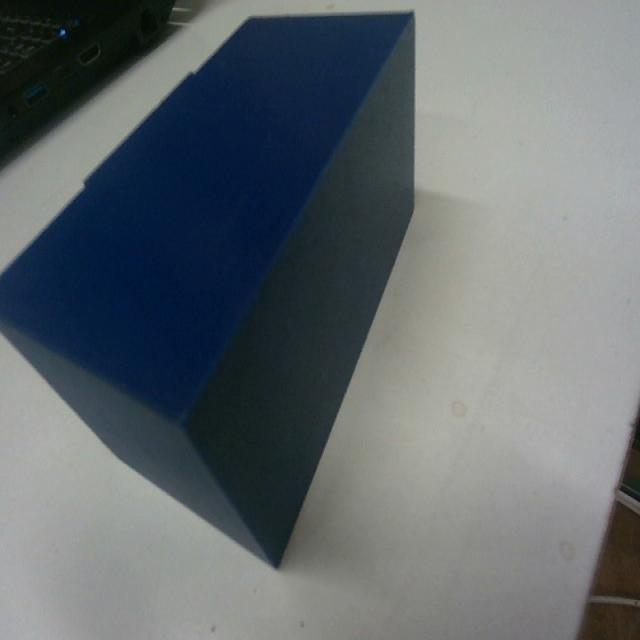Blue Cuboid: (0, 7, 418, 568)
